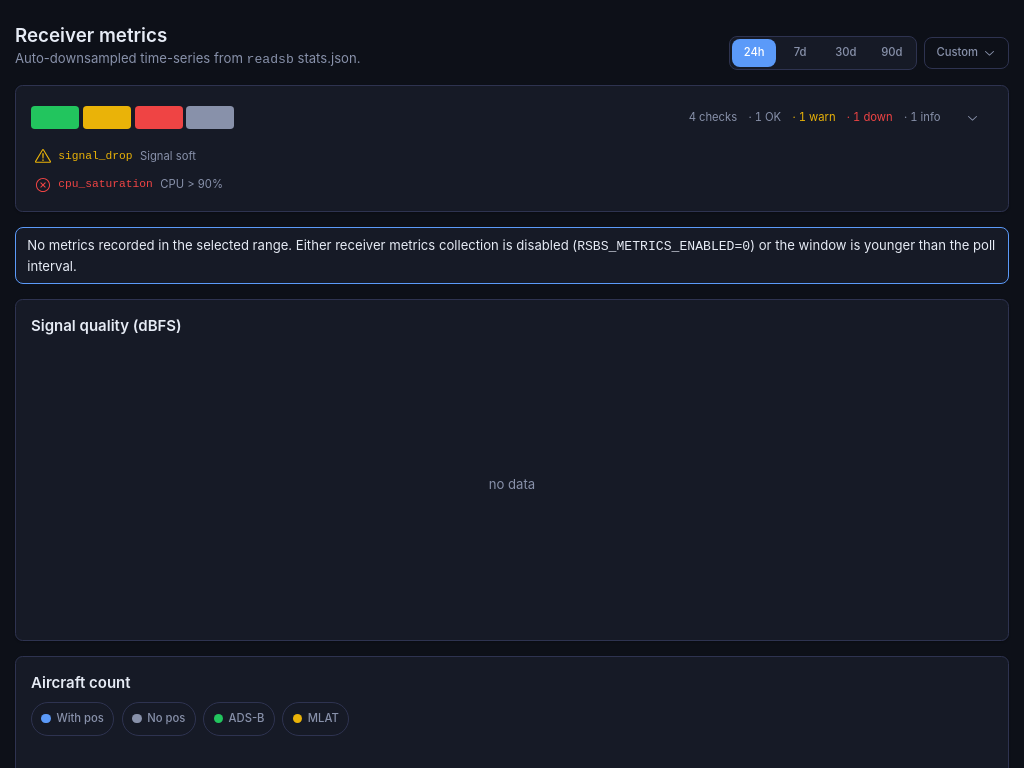
HealthStripe — happy path with 4 checks › clicking a square opens the detail panel
Step 1. Click the 2nd button with test id "health-stripe-square" → (107, 117), box [83, 97, 131, 138]
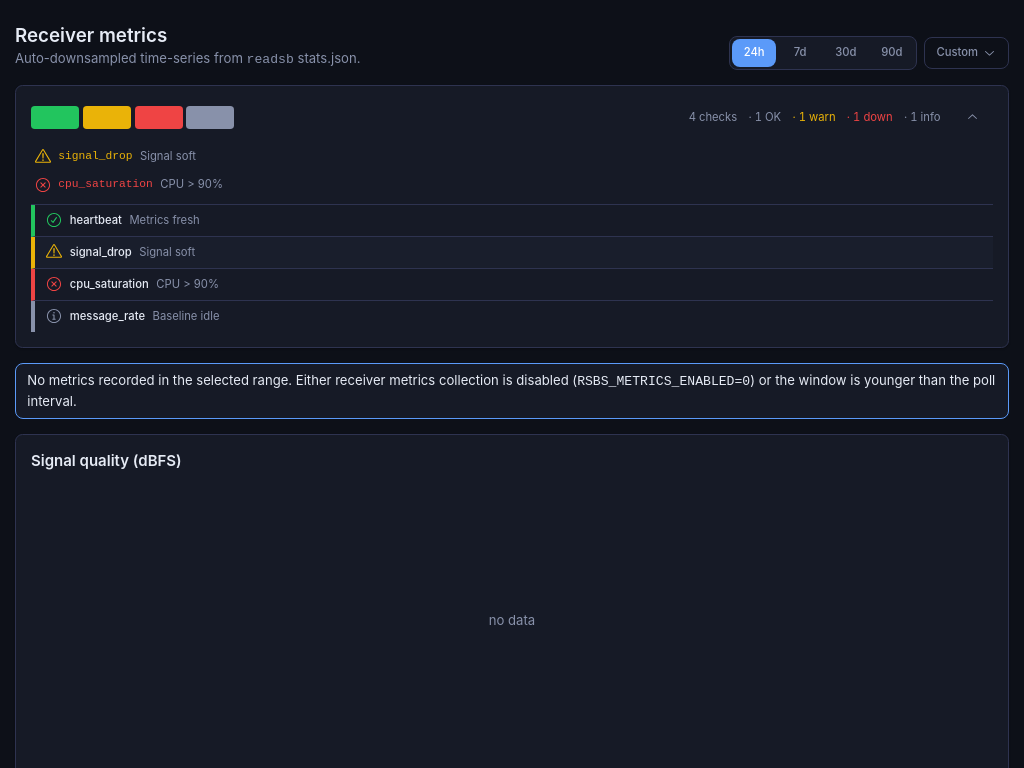
Check: the list with test id "metrics-health-detail" is shown, box [31, 204, 993, 332]
